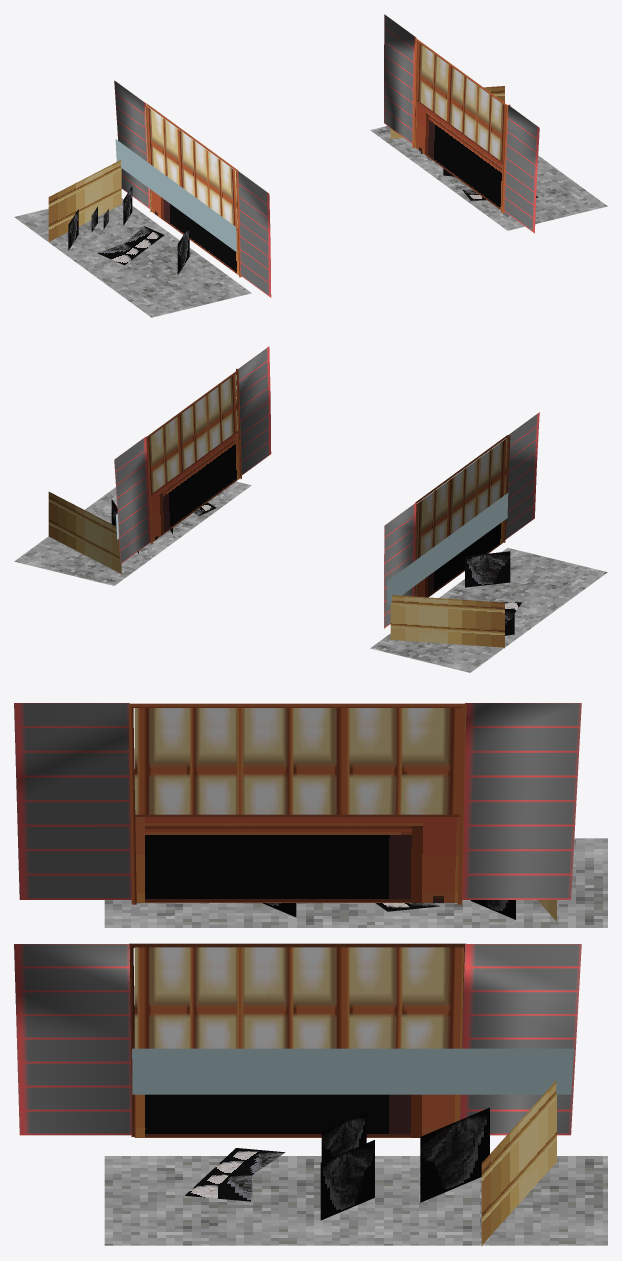
The picture shows the model from 3 angles, top to bottom: view 1: azimuth 30°, elevation 25°; view 2: azimuth 150°, elevation 25°; view 3: azimuth 270°, elevation 25°; orthographic projection. The views are drawn at different scales.
Visible parts, largest first — view 1: m00_kb3; view 2: m00_kb3; view 3: m00_kb3.
Part boxes in pixels (left/top/right/bottom): m00_kb3: left=14, top=14, right=607, bottom=317; m00_kb3: left=14, top=346, right=607, bottom=672; m00_kb3: left=14, top=703, right=607, bottom=1246.
Size of the model in its own units: 9 by 2.26 by 5.55.
7 materials, 7 textured.
